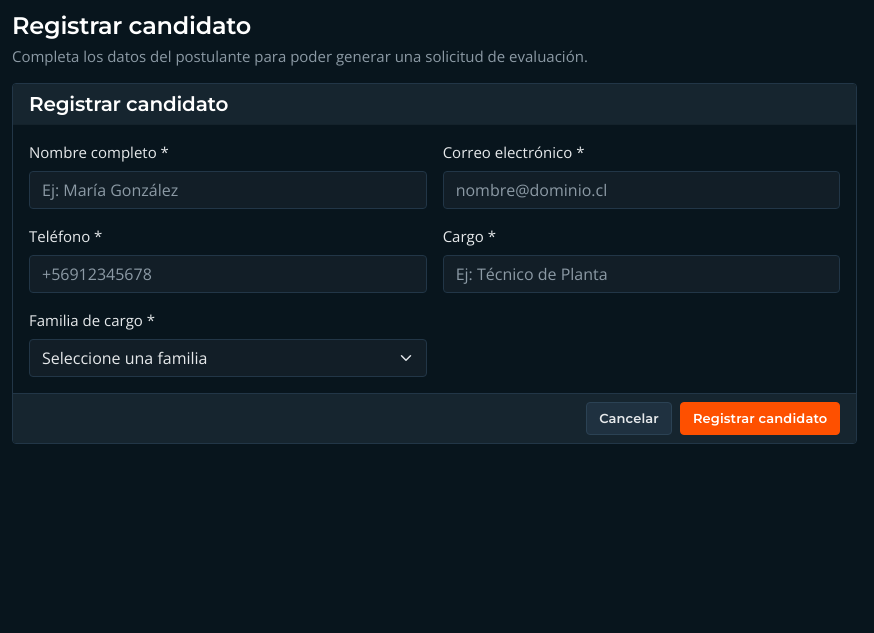
Test: NuevoCandidato › no crea el candidato si el formulario tiene errores
The width and height of the screenshot is (874, 633).
Click the button "Registrar candidato".
click(760, 419)  # box [680,402,840,435]
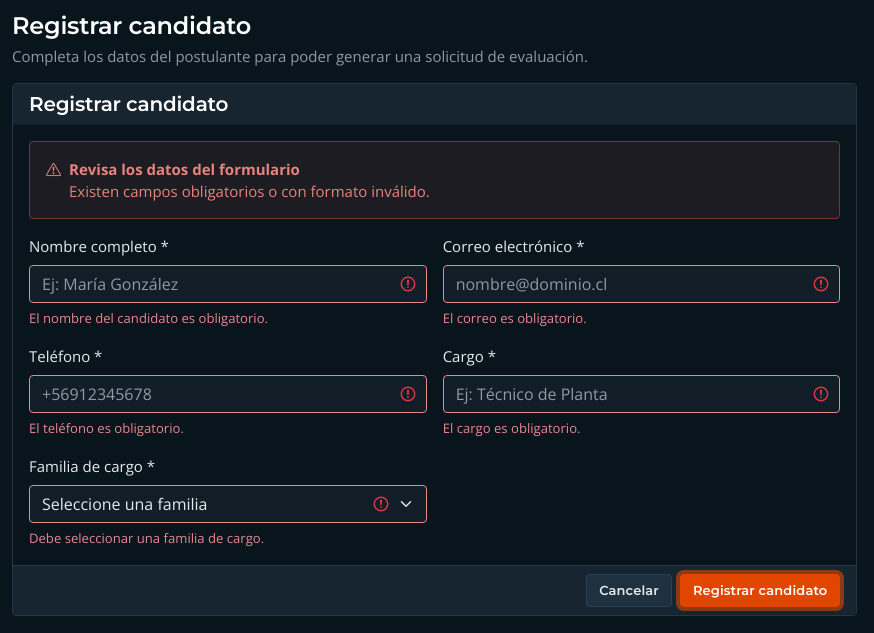
Expected: the 1st heading "Registrar candidato" is shown, [12,11,251,40]
Expected: the text "El nombre del candidato es obligatorio." is shown, [29,309,268,327]
